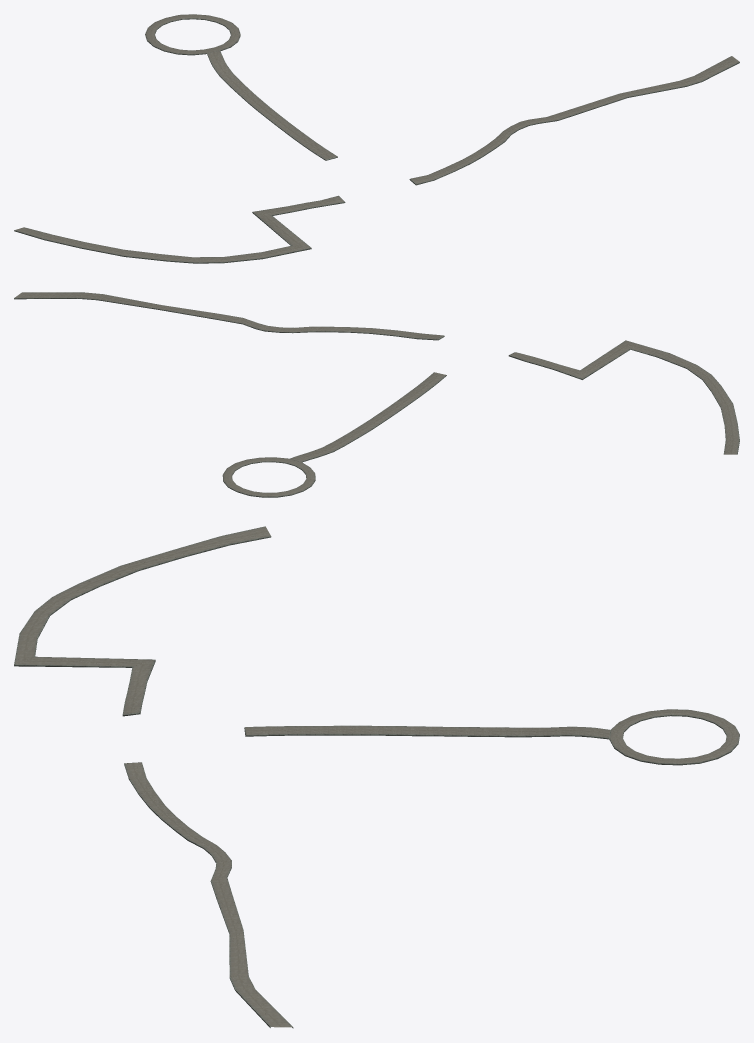
File: VP_park_pavement.fbx
3 renders of one model, top to bottom at view 1: azimuth 30°, elevation 25°; view 2: azimuth 150°, elevation 25°; view 3: azimuth 270°, elevation 25°, orthographic. The views are drawn at different scales.
Parts seen in each view (by area): view 1: Park_Pavements; view 2: Park_Pavements; view 3: Park_Pavements.
Boxes of the visible parts, box(x1,y1,x2,y2) form: Park_Pavements: box(14, 14, 739, 263); Park_Pavements: box(14, 292, 739, 497); Park_Pavements: box(14, 526, 739, 1028).
Bounding box in the file's own units: 18072 × 441 × 11395.
1 material, 1 textured.
